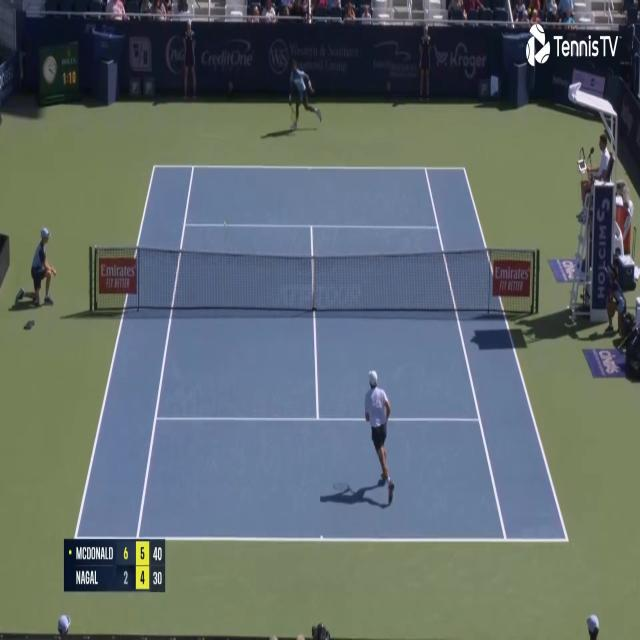tennis-player: (348, 367, 397, 508), (286, 54, 324, 136)
